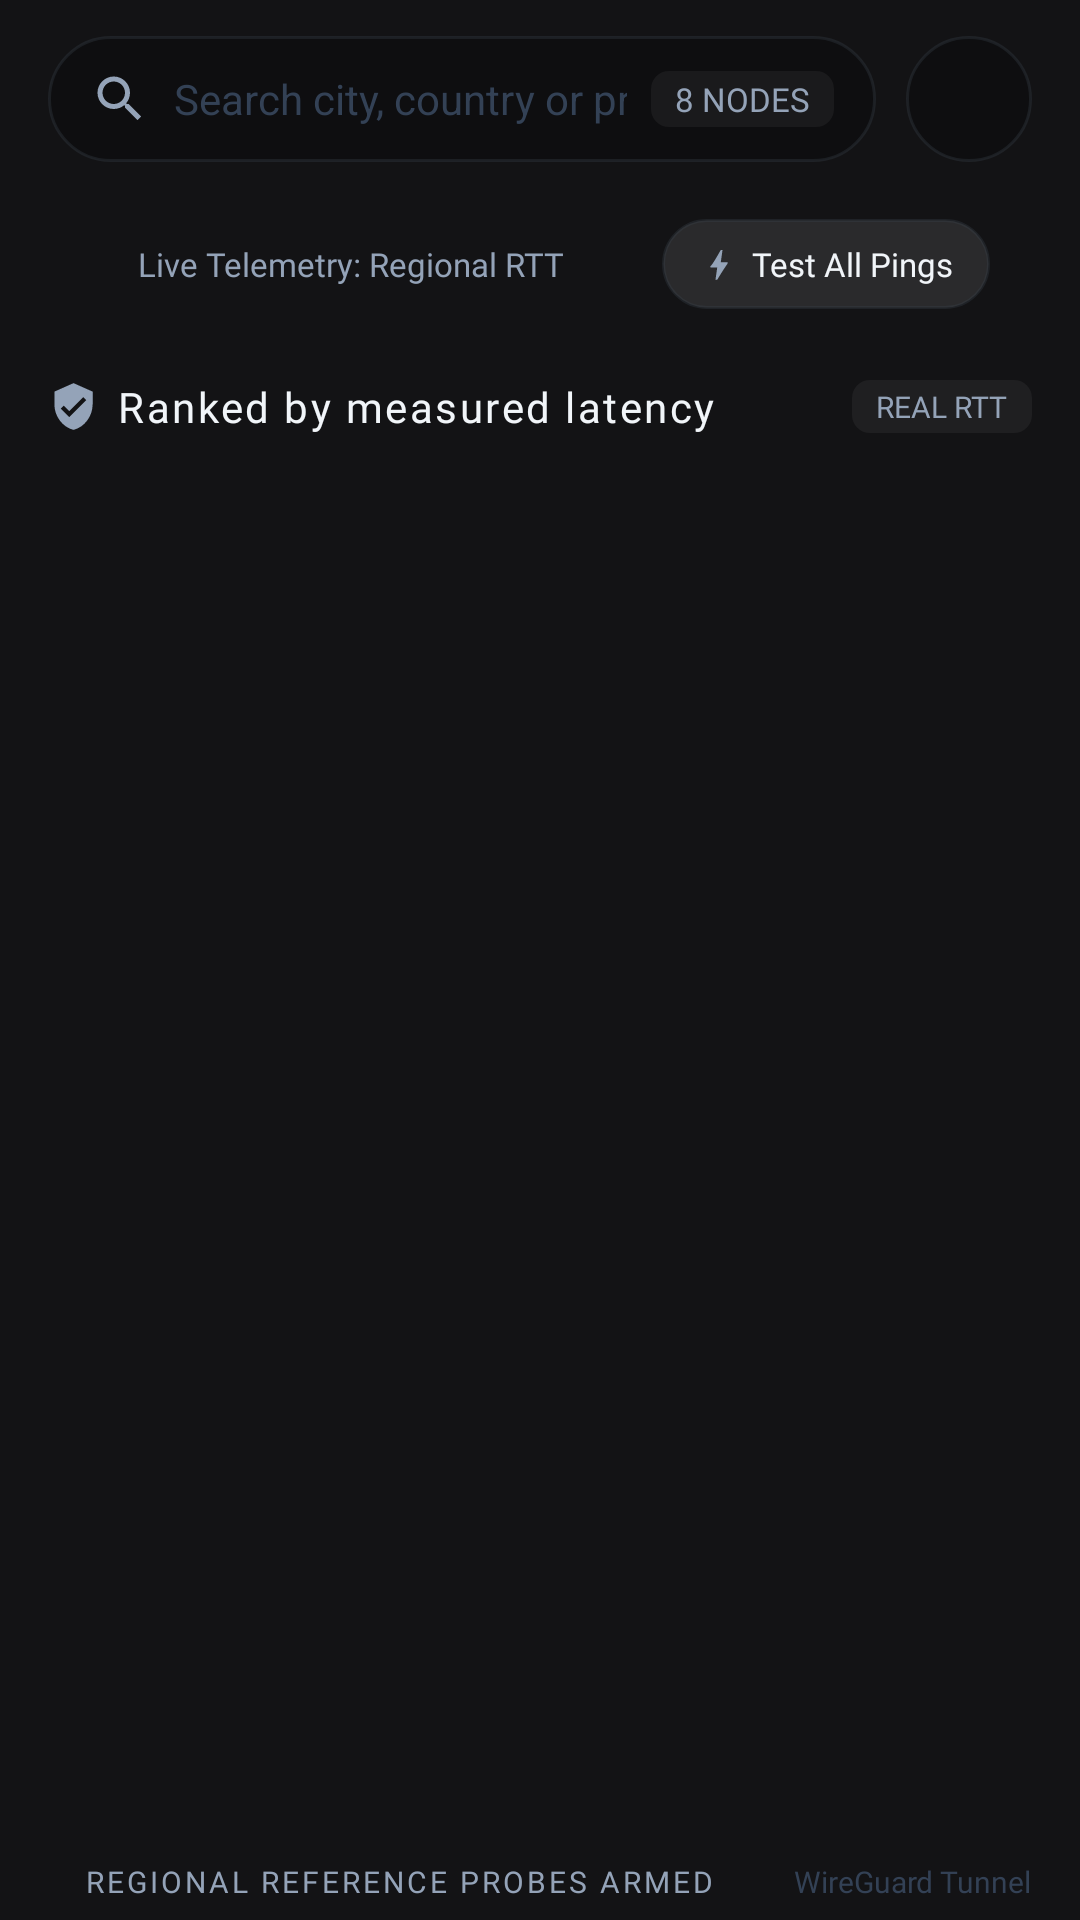

Icon click points for this 1080px×1920px phone screenshot, format (x=x, y=y):
Search servers: (x=119, y=98)
